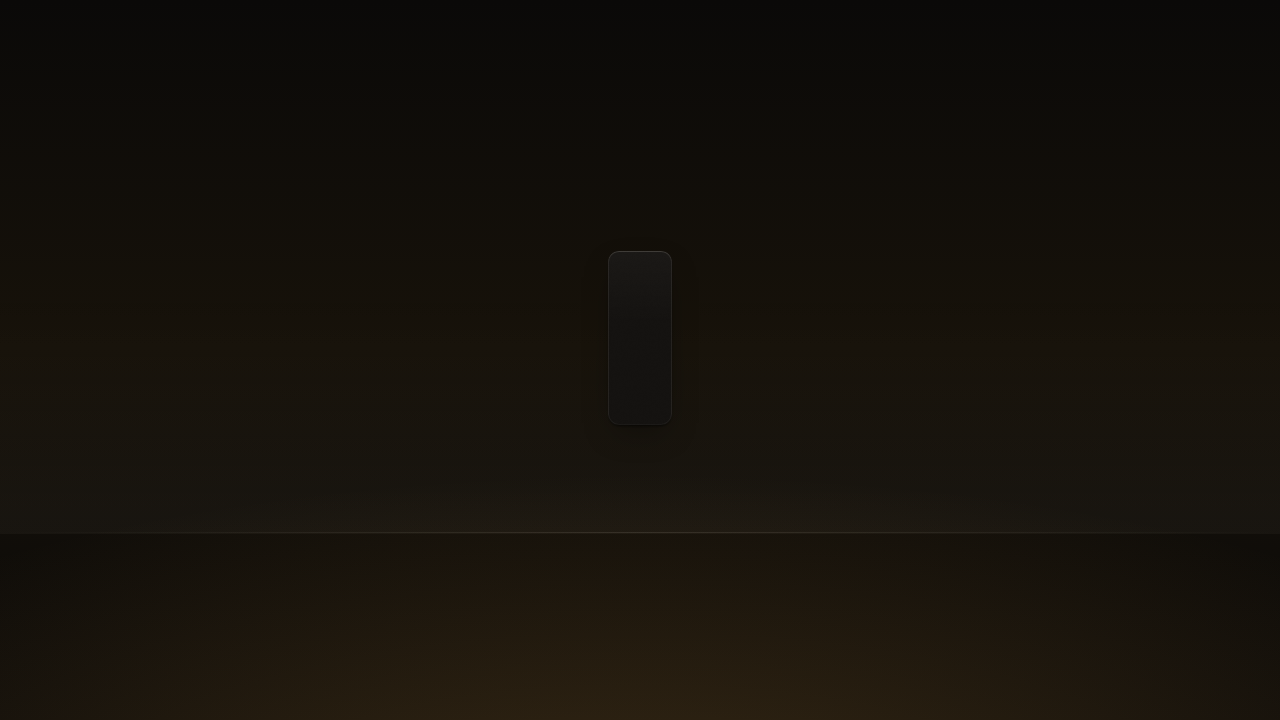
Test case: every surface is reachable without PrototypeNav (N1, N4) › navigates from the palette and pushes the URL
Press k
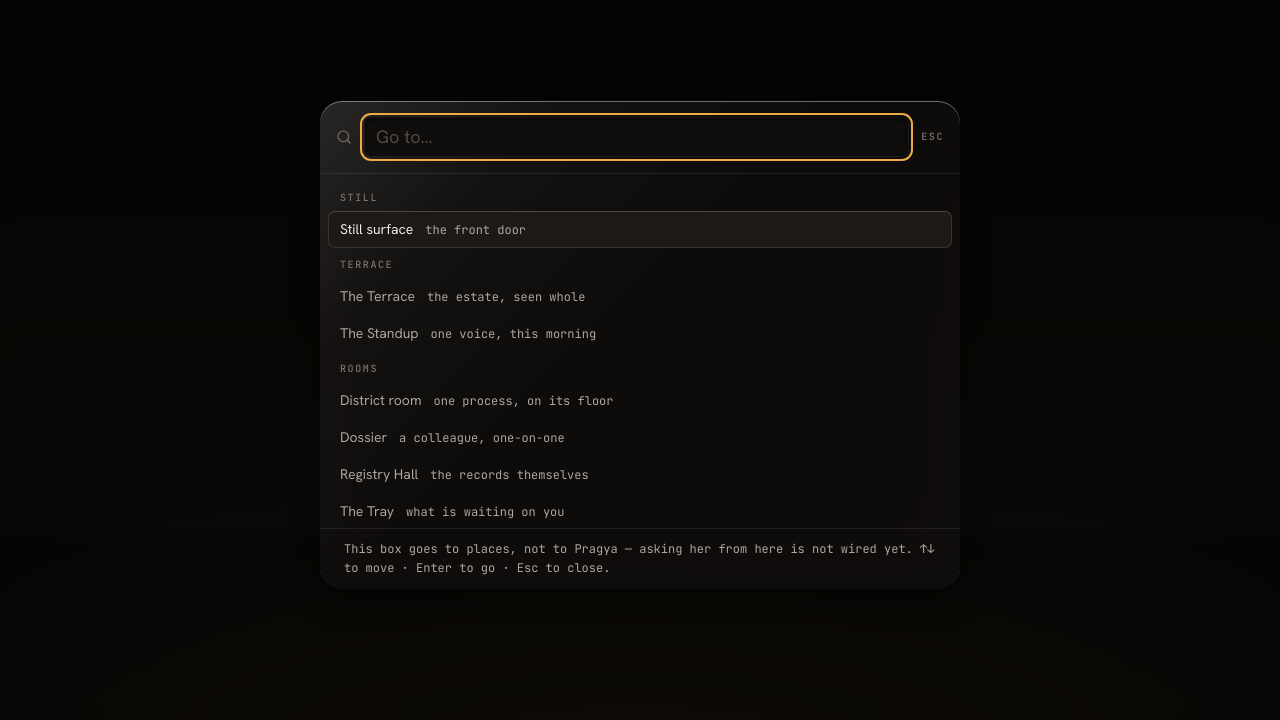
Check: the dialog is shown, box [320,101,960,590]
Check: the option "The Terrace the estate, seen whole" is shown
Click the option "The Terrace the estate, seen whole".
click(463, 296)  # box [340,287,585,305]
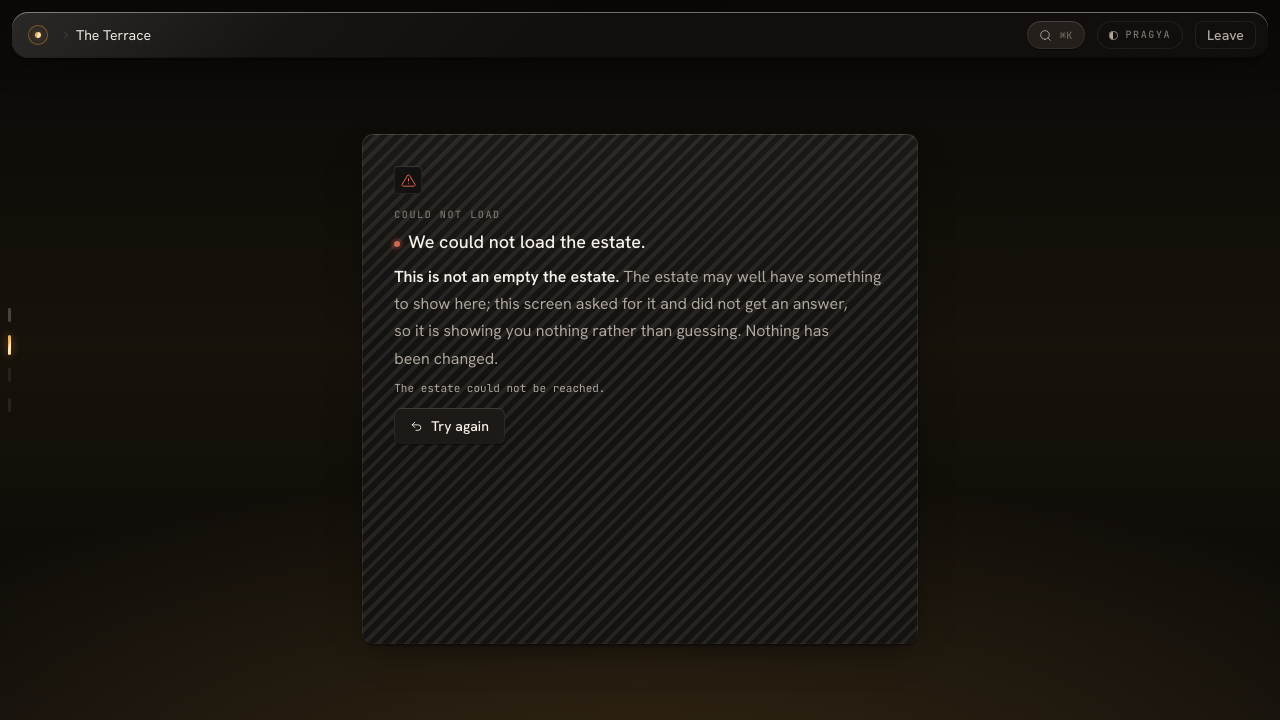
Check: the dialog is gone
Check: the element that starts with "Skip to the surface" is shown
